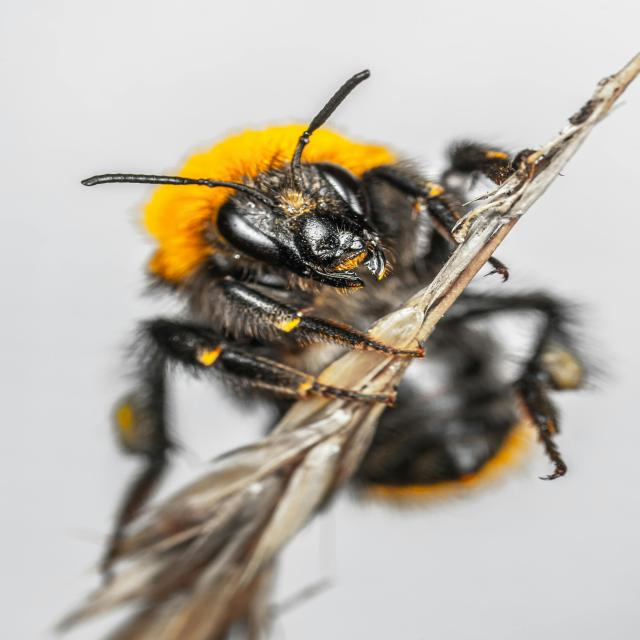bee: (79, 69, 619, 586)
